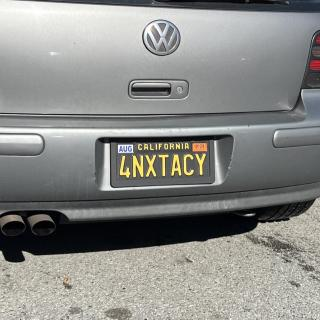license: (111, 136, 218, 189)
